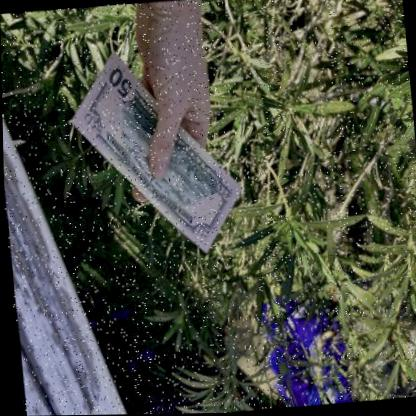fifty-back: (69, 53, 241, 254)
